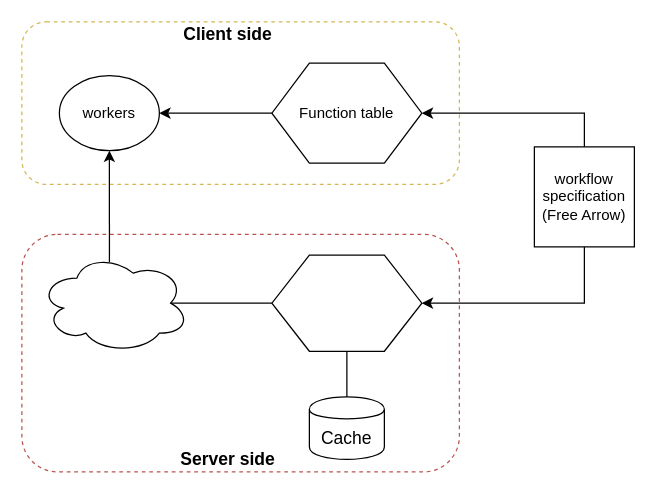
This 656x494 diagram has some shape labels left out. Each missing label, with the centre of its shape:
Cloud Haskell coordinator: (113,302)
Executor: (346,302)
